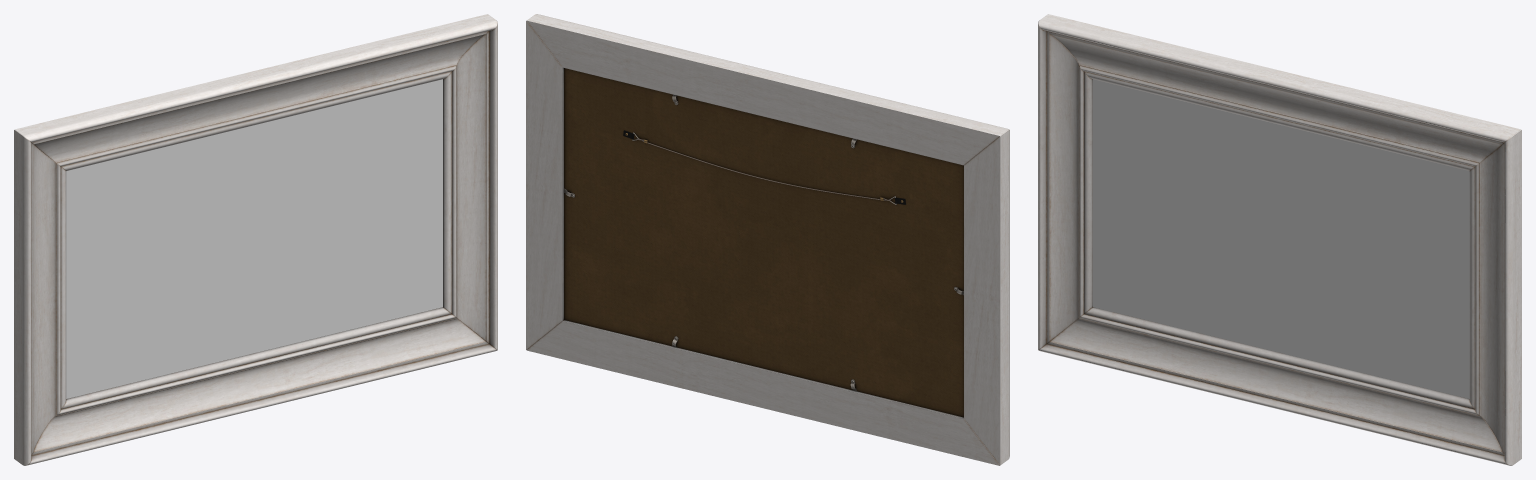
Rendered from hanging_picture_frame_02_4k.fbx.
3 renders of one model, left to right at view 1: azimuth 30°, elevation 25°; view 2: azimuth 150°, elevation 25°; view 3: azimuth 330°, elevation 25°, orthographic.
Parts seen in each view (by area): view 1: hanging_picture_frame_02; view 2: hanging_picture_frame_02; view 3: hanging_picture_frame_02.
Boxes of the visible parts, x1,y1,x2,y2 form: hanging_picture_frame_02: (14, 14, 497, 465); hanging_picture_frame_02: (526, 14, 1009, 465); hanging_picture_frame_02: (1038, 14, 1521, 465).
Bounding box in the file's own units: 75.18 × 50 × 3.31.
